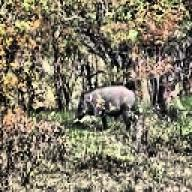boar: (72, 84, 136, 130)
